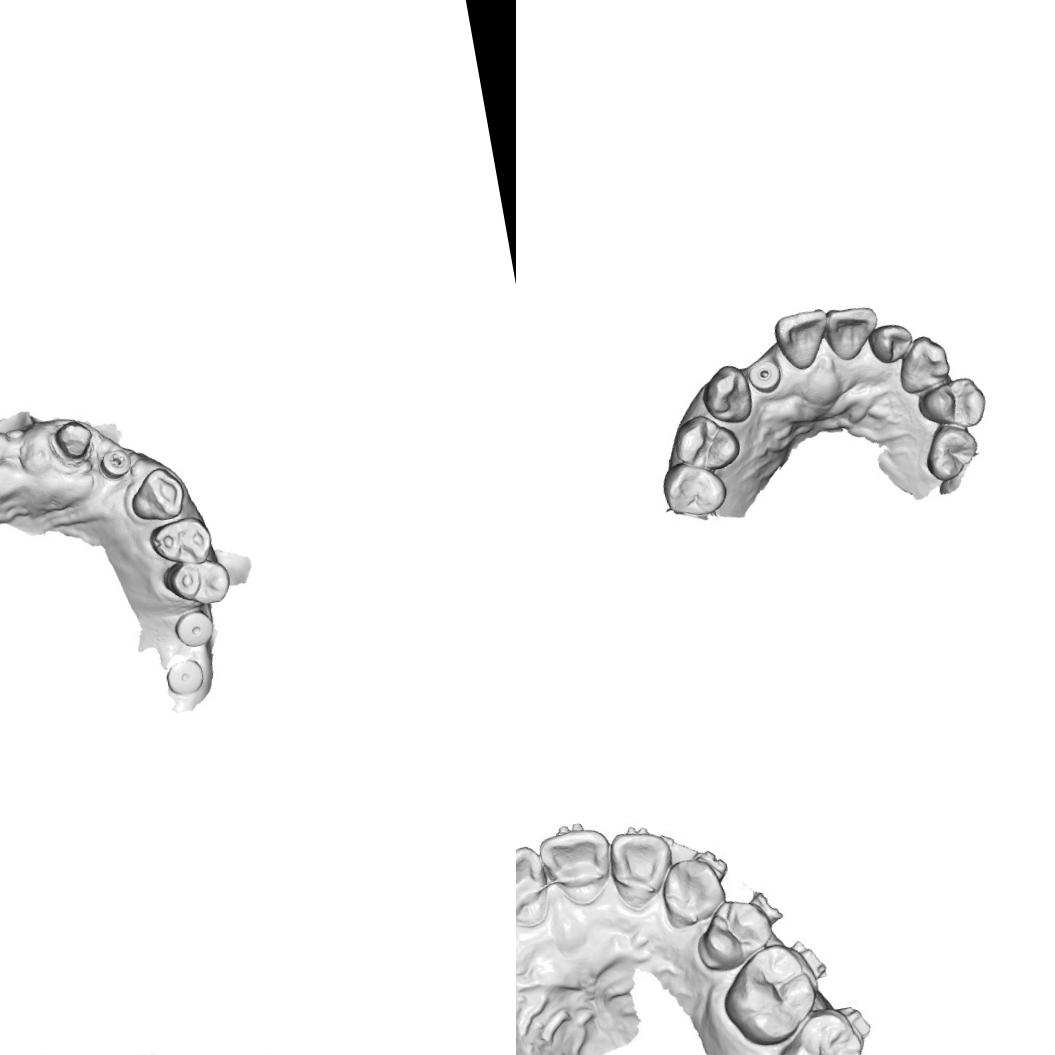canine: (654, 848, 730, 932), (124, 462, 190, 526), (696, 359, 756, 429), (892, 330, 953, 396)
crown: (48, 413, 98, 464)
implant: (170, 605, 218, 651), (160, 654, 208, 699), (744, 355, 784, 396)
implant_plus: (95, 443, 135, 482)
incisor: (542, 820, 616, 908), (770, 304, 836, 374), (611, 830, 671, 902), (820, 300, 883, 363), (516, 843, 557, 931), (864, 319, 916, 367)
molar: (711, 937, 828, 1055), (766, 1008, 868, 1055)
premolar: (692, 896, 779, 977), (666, 408, 743, 476), (656, 454, 730, 522), (912, 372, 990, 433), (158, 554, 235, 613), (144, 512, 217, 572), (918, 420, 984, 486)
